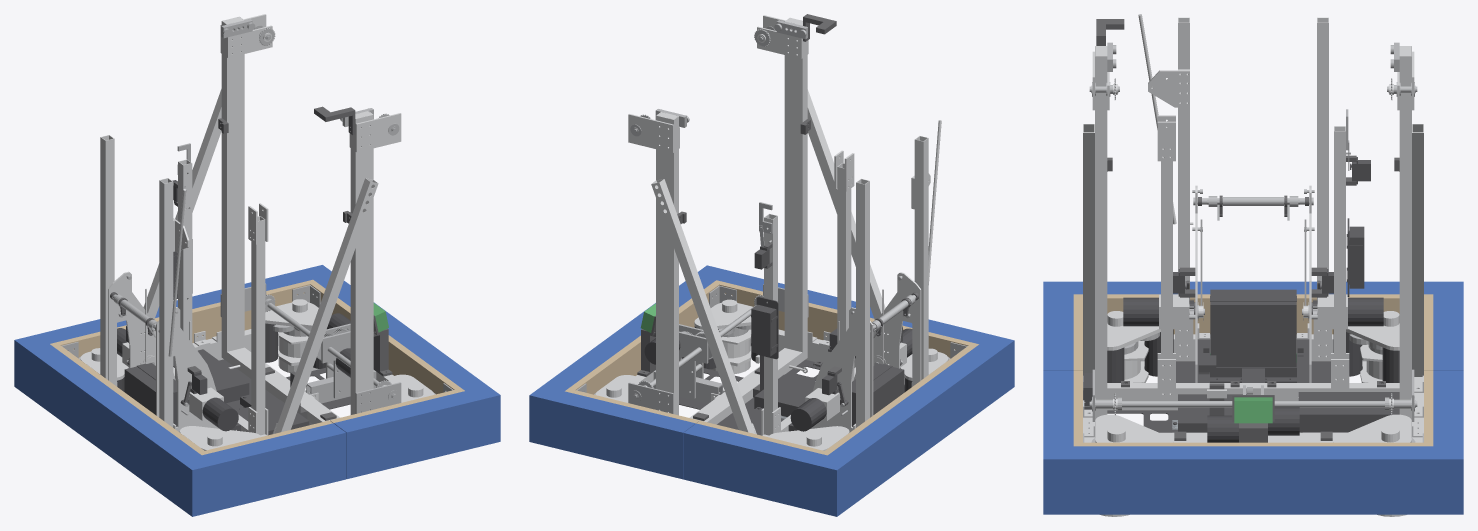
3 views of the same model, side by side, from view 1: azimuth 30°, elevation 25°; view 2: azimuth 150°, elevation 25°; view 3: azimuth 270°, elevation 25° (orthographic). The views are drawn at different scales.
Bounding box in the file's own units: 0.8763 × 0.9874 × 0.8763.
